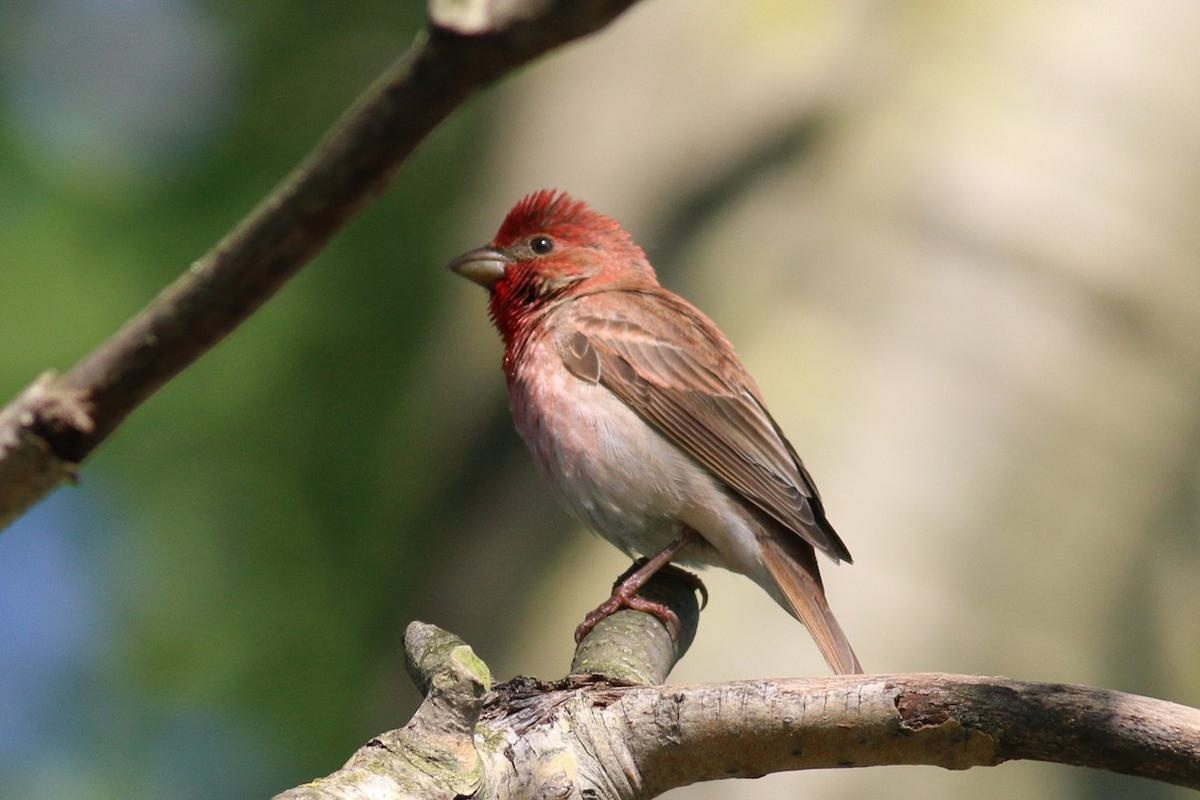rosefinch: (440, 177, 876, 643)
